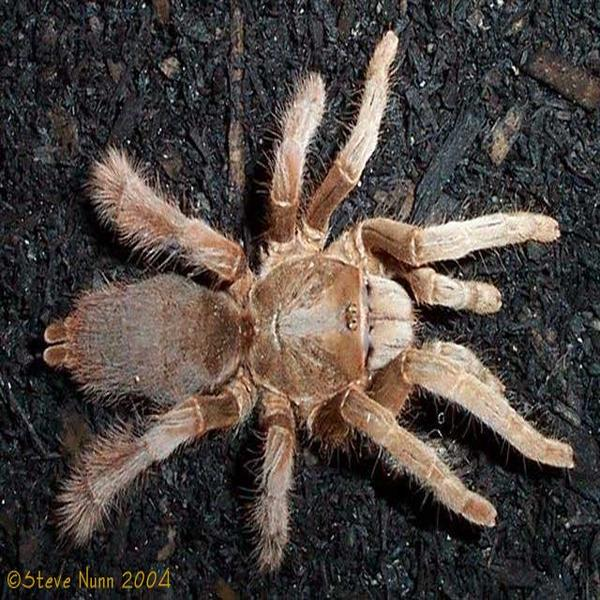Tarantula Spider: (59, 57, 557, 549)
